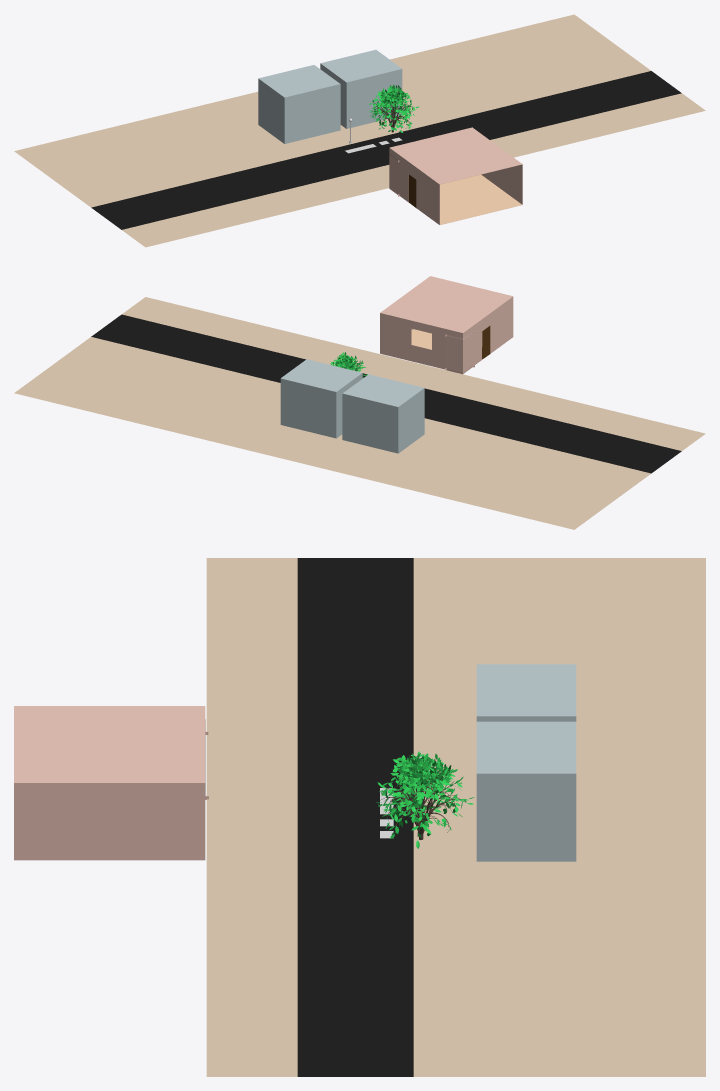
The model's file is QRoom.fbx.
The picture shows the model from 3 angles, top to bottom: view 1: azimuth 30°, elevation 25°; view 2: azimuth 150°, elevation 25°; view 3: azimuth 270°, elevation 25°; orthographic projection. The views are drawn at different scales.
Visible parts, largest first — view 1: 平面, Cube, 立方体.001, 立方体, leaves; view 2: 平面, Cube, 立方体.001, 立方体; view 3: 平面, Cube, 立方体, 立方体.001, leaves, tree.
Part boxes in pixels (x1,y1,x2,y2): 平面: [14, 14, 705, 247]; Cube: [389, 127, 522, 224]; 立方体.001: [258, 65, 340, 143]; 立方体: [320, 49, 402, 128]; leaves: [369, 84, 419, 132]; 平面: [14, 297, 705, 529]; Cube: [380, 276, 513, 374]; 立方体.001: [342, 374, 424, 453]; 立方体: [280, 359, 362, 438]; 平面: [206, 558, 705, 1076]; Cube: [14, 706, 208, 860]; 立方体: [476, 721, 576, 861]; 立方体.001: [476, 664, 576, 721]; leaves: [376, 751, 474, 848]; tree: [380, 761, 465, 839].
Bounding box in the file's own units: 12320 × 1015 × 6944.
